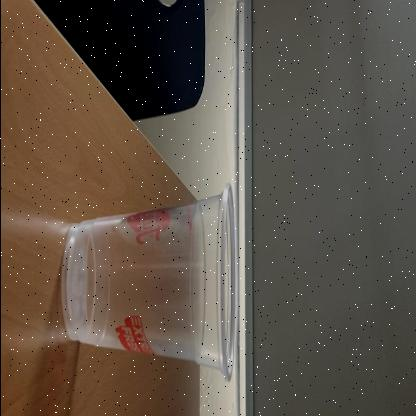Others: (62, 182, 236, 386)
